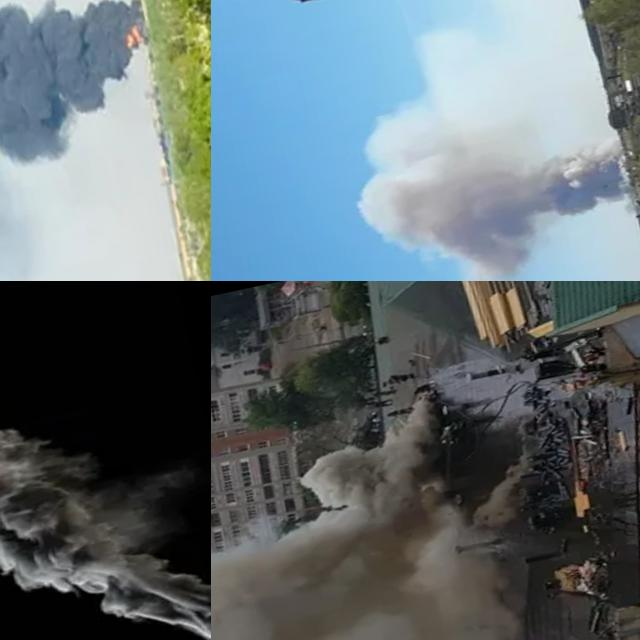smoke: (211, 386, 562, 640), (0, 281, 211, 640), (339, 65, 640, 281), (0, 0, 180, 279)
